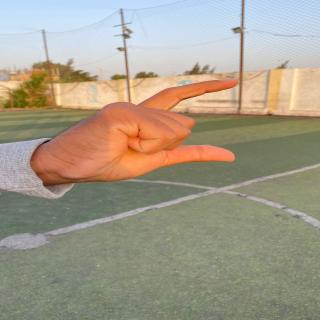DELL: (41, 78, 254, 177)
